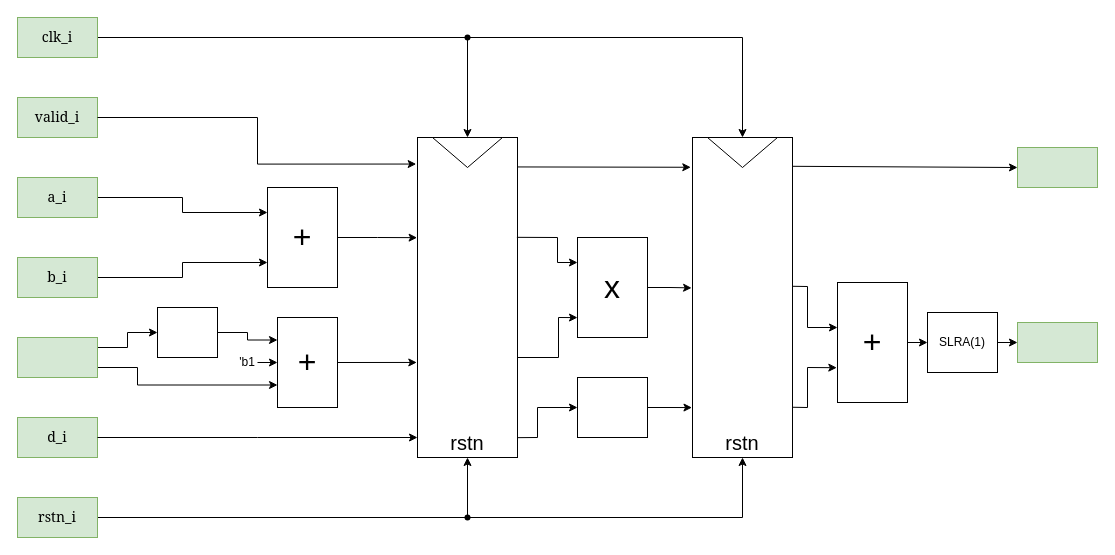
Image size: 1115x555. Some labels were removed from this diagram. The box of each missing label's shape, as (x1, y1, x2, y2) in pixels:
c_i: (16, 336, 98, 378)
q_o: (1016, 322, 1098, 362)
SLL(1): (156, 306, 218, 358)
SLL(2): (576, 376, 648, 438)
valid_o: (1016, 146, 1098, 188)
